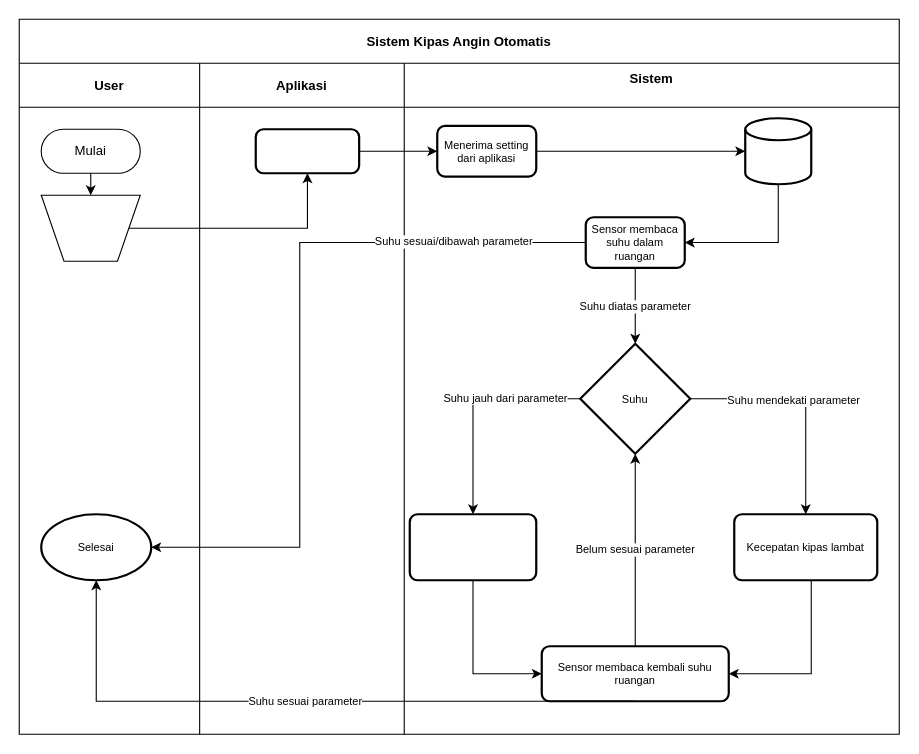
The diagram is 919 pixels wide and 754 high, and some of its shapes have lost their labels. Here are the shapes that lost their labels. From the top down, the box of each, then its label:
(254, 128, 360, 174): Membaca setting
(744, 117, 812, 185): Database
(40, 194, 140, 261): Seting paameter sistem
(408, 513, 537, 581): Kecepatan kipas tinggi
